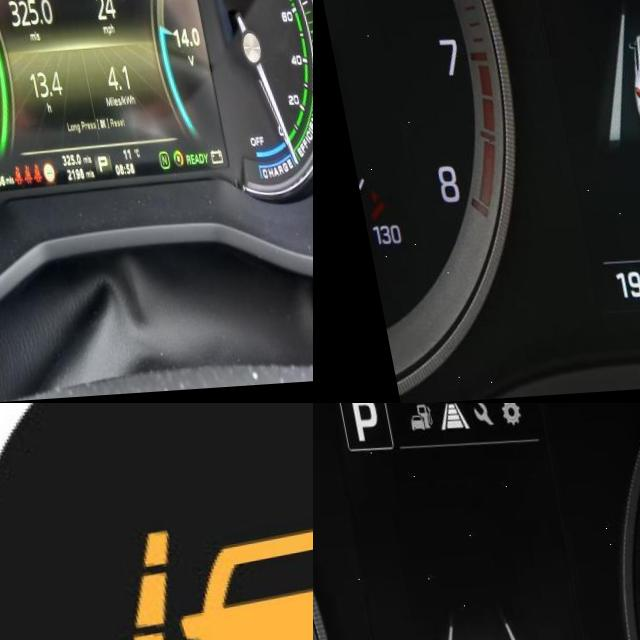Seat Belt: (5, 169, 16, 187), (15, 169, 26, 186), (0, 171, 6, 186)
